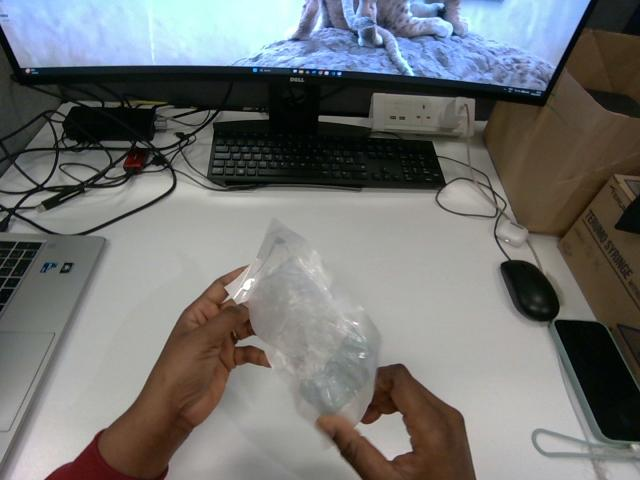gallipot: (227, 220, 379, 424)
